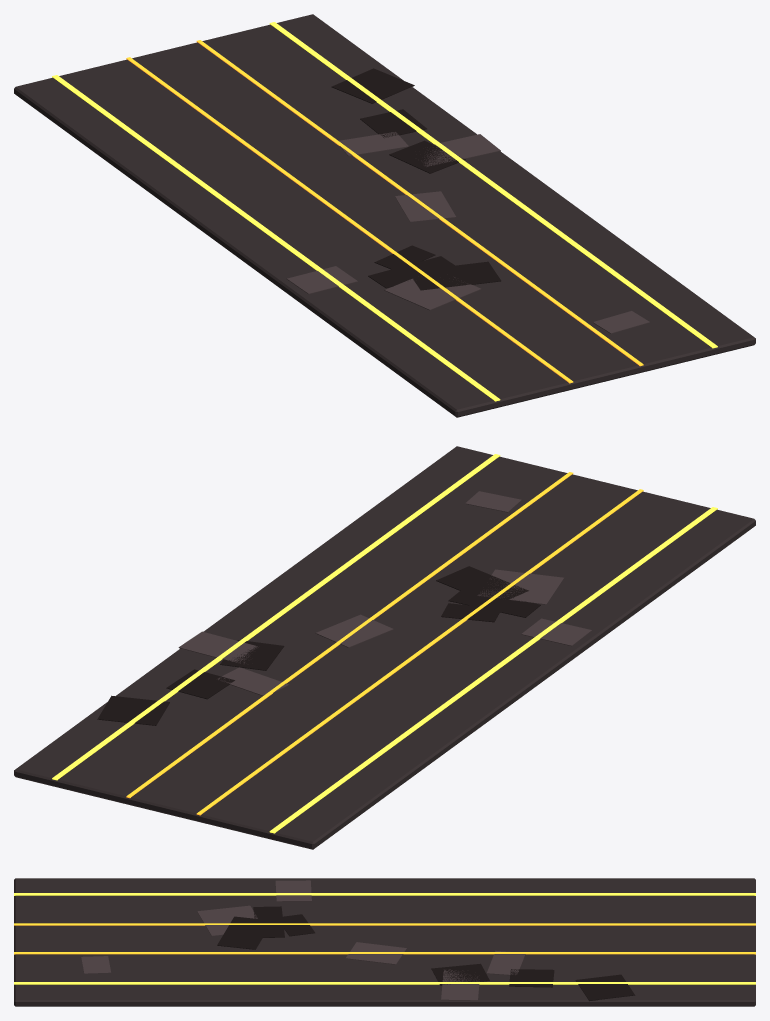
File: hd_rd_basalt.gltf
3 renders of one model, top to bottom at view 1: azimuth 30°, elevation 25°; view 2: azimuth 150°, elevation 25°; view 3: azimuth 270°, elevation 25°, orthographic. The views are drawn at different scales.
Visible parts, largest first — view 1: base, seam0, seam1, vein1, vein0, plate0, plate10, plate3, plate2, plate5, plate7, plate6 (+5 smaller); view 2: base, seam0, seam1, vein1, vein0, plate0, plate3, plate10, plate7, plate5, plate4, plate2 (+5 smaller); view 3: base, seam0, vein1, vein0, seam1, plate0, plate10, plate3, plate7, plate2, plate5, plate4 (+5 smaller).
Part boxes in pixels (x1,y1,x2,y2): base: (14,14,755,417); seam0: (52,75,500,401); seam1: (269,22,717,348); vein1: (196,40,643,366); vein0: (126,57,573,383); plate0: (408,261,501,290); plate10: (331,68,414,103); plate3: (384,277,480,310); plate2: (389,140,465,173); plate5: (395,191,456,222); plate7: (421,134,500,166); plate6: (368,256,458,288); base: (14,446,755,849); seam0: (269,507,717,833); seam1: (52,454,500,780); vein1: (126,472,573,798); vein0: (196,489,643,815); plate0: (436,566,528,604); plate3: (477,569,563,604); plate10: (97,695,169,725); plate7: (178,631,258,663); plate5: (315,614,393,647); plate4: (166,669,234,699); plate2: (220,640,284,670); base: (14,878,755,1006); seam0: (14,893,755,895); vein1: (14,952,755,954); vein0: (14,923,755,925); seam1: (14,982,755,984); plate0: (217,916,272,949); plate10: (575,974,635,1001); plate3: (197,905,257,936); plate7: (441,969,479,1000); plate2: (431,963,489,985); plate5: (345,942,406,964); plate4: (509,969,554,987).
Size of the model in its own units: 9.44 by 0.264 by 24.
